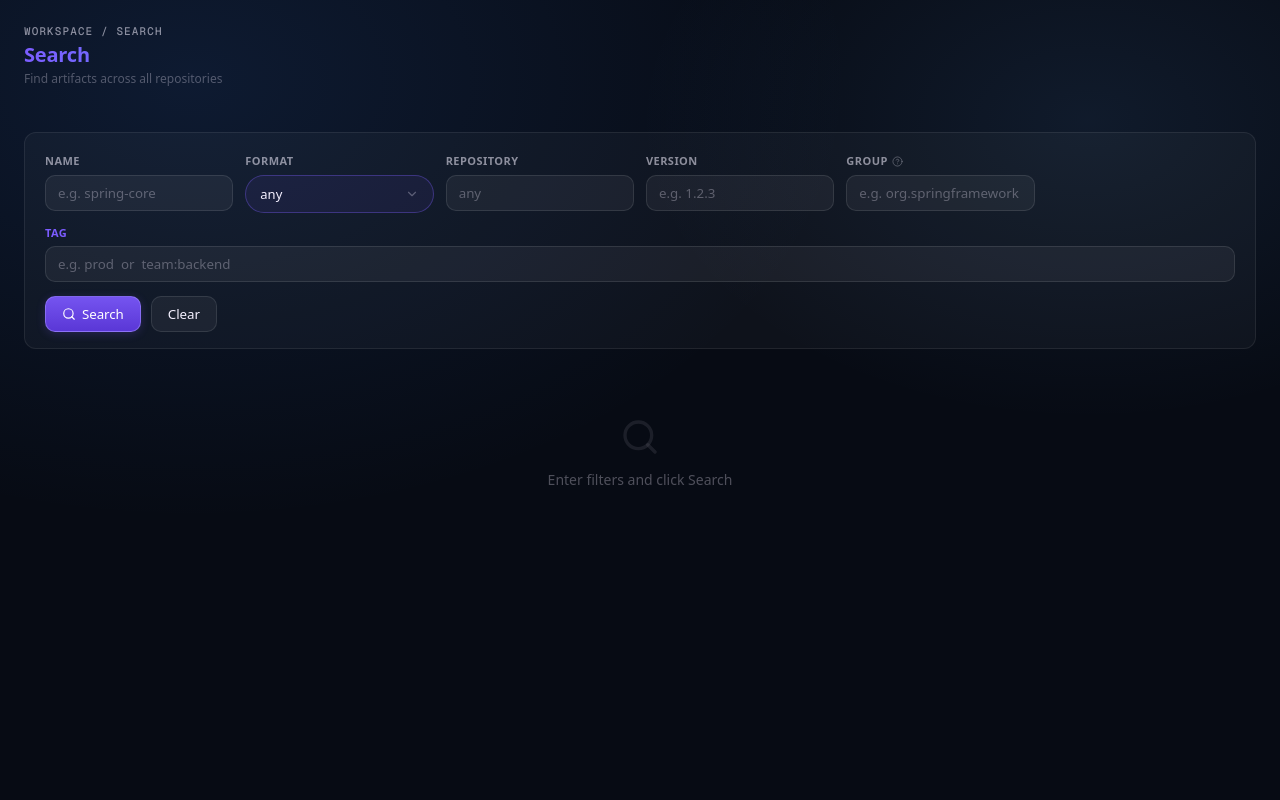
Test: SearchPage › searches and shows grouped results
Type "spring" into the field with placeholder "e.g. spring-core" at (139, 193), box [45,175,233,211]
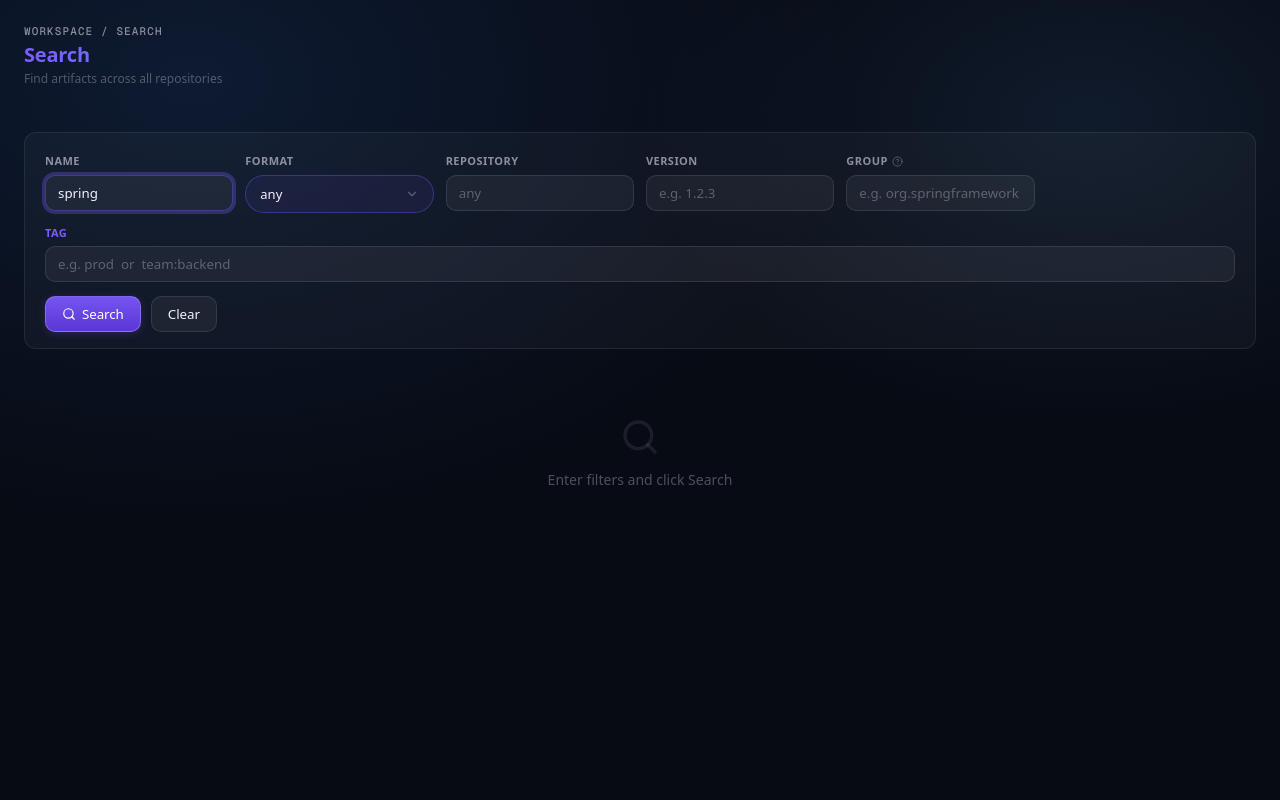
Click the button "Search" at (93, 314), box [45,296,141,332]
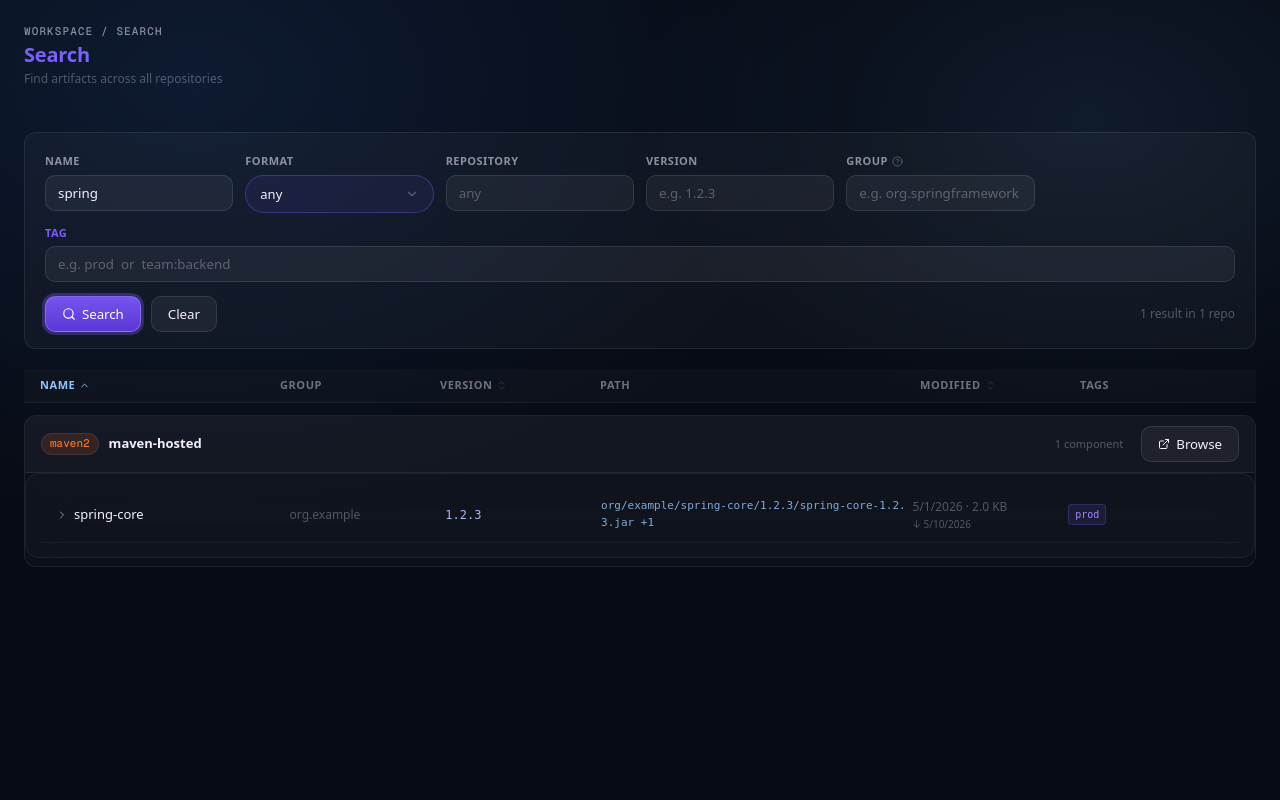
Result: the text "spring-core" is shown at [56,505,144,523]
Result: the text "maven-hosted" is shown at [109,434,202,454]
Result: the text "1.2.3" is shown at [445,508,481,522]
